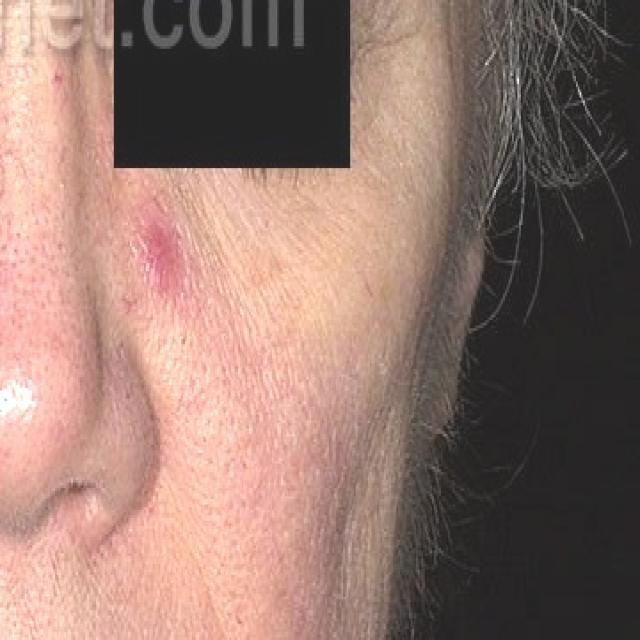Rosacea: (121, 200, 194, 302)
